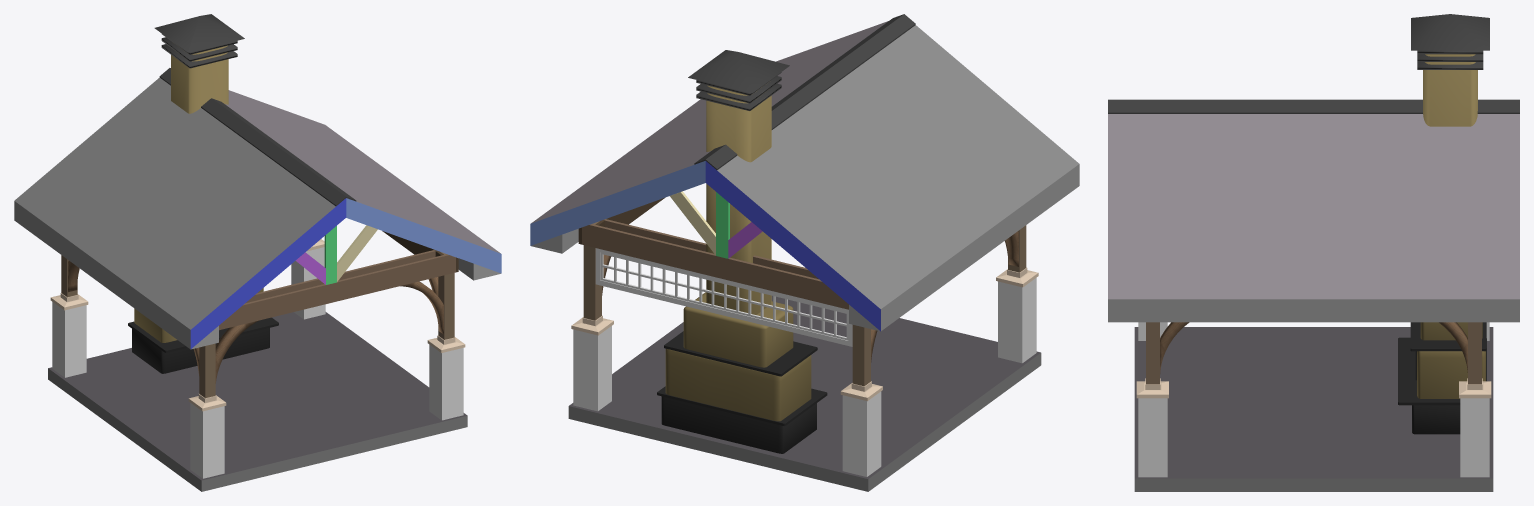
The model's file is Kitchen.fbx.
3 views of the same model, side by side, from view 1: azimuth 30°, elevation 25°; view 2: azimuth 150°, elevation 25°; view 3: azimuth 270°, elevation 25° (orthographic). The views are drawn at different scales.
Parts seen in each view (by area): view 1: Roof_Face_Left, Floor_Box, Fireplace_Chimney, Roof_Face_Right, Roof_Rafter, Girder_Wood_X, Roof_Facia_Board, Colume_1, Colume_4, Colume_3, Roof_Metal_Ledge, Colume_2 (+5 smaller); view 2: Roof_Face_Left, Floor_Box, Fireplace_Chimney, Roof_Face_Right, Roof_Rafter, Girder_Wood_X, Roof_Facia_Board, Colume_3, Colume_2, Colume_4, Roof_Metal_Ledge, Lattice_Grid (+4 smaller); view 3: Roof_Face_Right, Floor_Box, Fireplace_Chimney, Roof_Facia_Board, Roof_Metal_Ledge, Colume_1, Colume_2, Arc_F_R.005, Arc_F_R.004.
Boxes of the visible parts, box(x1,y1,x2,y2) form: Roof_Face_Left: box(14, 77, 335, 329); Floor_Box: box(48, 312, 467, 491); Fireplace_Chimney: box(128, 14, 278, 373); Roof_Face_Right: box(225, 90, 500, 253); Roof_Rafter: box(190, 198, 501, 348); Girder_Wood_X: box(219, 250, 455, 330); Roof_Facia_Board: box(14, 201, 473, 349); Colume_1: box(427, 252, 465, 420); Colume_4: box(188, 343, 226, 478); Colume_3: box(50, 255, 88, 377); Roof_Metal_Ledge: box(159, 68, 356, 206); Colume_2: box(291, 239, 325, 319); Roof_Face_Left: box(717, 25, 1079, 308); Floor_Box: box(568, 295, 1041, 491); Fireplace_Chimney: box(657, 50, 827, 453); Roof_Face_Right: box(531, 21, 888, 223); Roof_Rafter: box(530, 161, 880, 331); Girder_Wood_X: box(582, 219, 848, 309); Roof_Facia_Board: box(562, 164, 1079, 330); Colume_3: box(840, 325, 882, 476); Colume_2: box(571, 221, 613, 411); Colume_4: box(996, 225, 1038, 363); Roof_Metal_Ledge: box(694, 14, 915, 169); Lattice_Grid: box(600, 252, 848, 340); Roof_Face_Right: box(1108, 114, 1519, 299); Floor_Box: box(1134, 327, 1493, 491); Fireplace_Chimney: box(1398, 14, 1489, 434); Roof_Facia_Board: box(1108, 299, 1519, 322); Roof_Metal_Ledge: box(1108, 99, 1519, 113); Colume_1: box(1136, 322, 1168, 477); Colume_2: box(1459, 322, 1491, 477); Arc_F_R.005: box(1160, 322, 1189, 373); Arc_F_R.004: box(1439, 322, 1467, 372).
Size of the model in its own units: 573 by 606 by 563.
